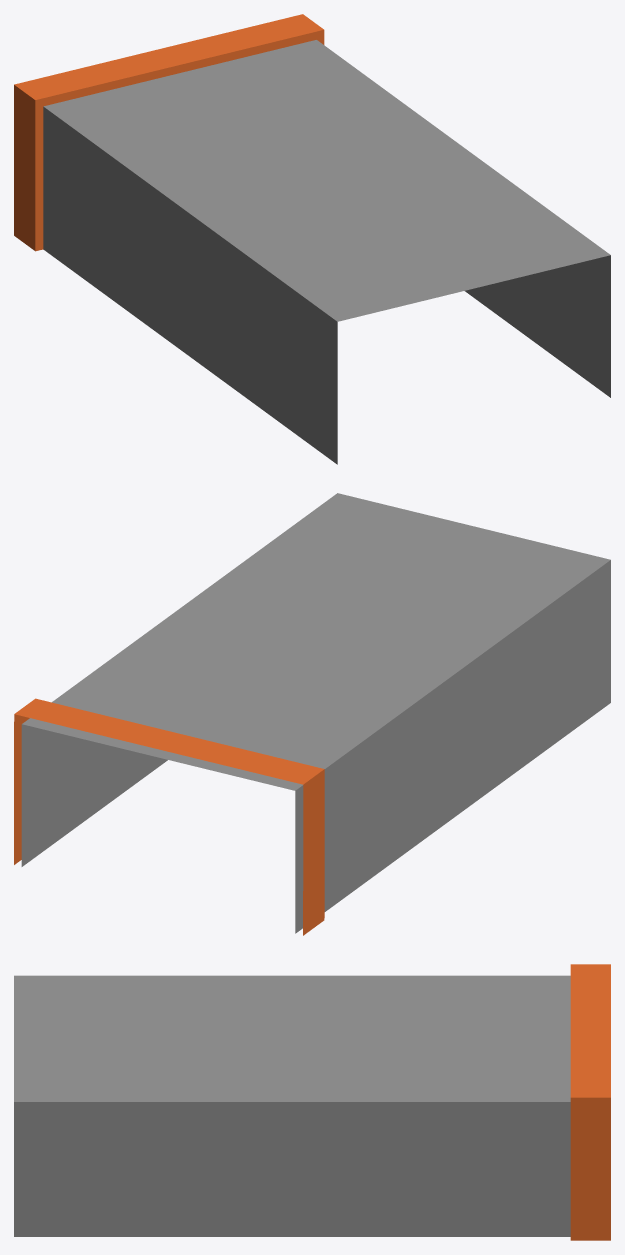
Rendered from Interior_halfcolumn_00.fbx.
3 renders of one model, top to bottom at view 1: azimuth 30°, elevation 25°; view 2: azimuth 150°, elevation 25°; view 3: azimuth 270°, elevation 25°, orthographic. The views are drawn at different scales.
Visible parts, largest first — view 1: Interior_halfcolumn_00; view 2: Interior_halfcolumn_00; view 3: Interior_halfcolumn_00.
Boxes of the visible parts, left/top/right/bottom form: Interior_halfcolumn_00: left=14, top=14, right=610, bottom=464; Interior_halfcolumn_00: left=14, top=493, right=610, bottom=935; Interior_halfcolumn_00: left=14, top=964, right=610, bottom=1240.
Bounding box in the file's own units: 41.64 × 78.74 × 20.81.
